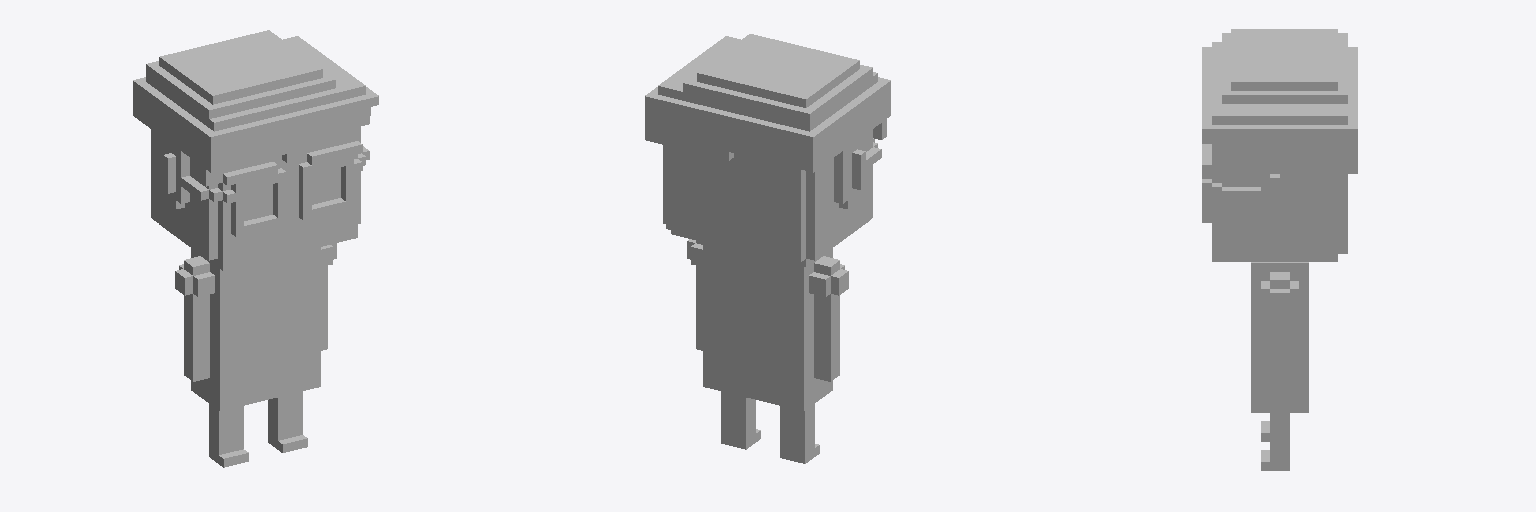
File: skin(Formal attire).obj
3 renders of one model, left to right at view 1: azimuth 30°, elevation 25°; view 2: azimuth 150°, elevation 25°; view 3: azimuth 270°, elevation 25°, orthographic.
Visible parts, largest first — view 1: character; view 2: character; view 3: character.
Boxes of the visible parts, x1=… form: character: x1=133, y1=30, x2=378, y2=467; character: x1=645, y1=34, x2=890, y2=463; character: x1=1202, y1=29, x2=1357, y2=470.
Bounding box in the file's own units: 2.2 × 4.4 × 1.6.